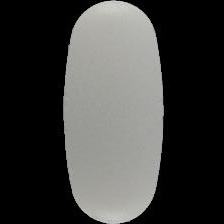43063-632: (0, 0, 224, 224)
